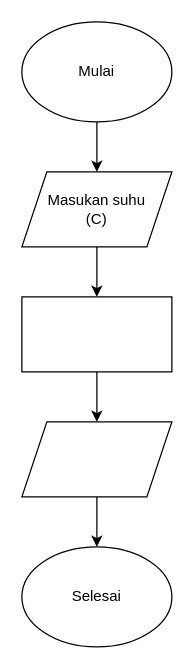
The diagram is 194 pixels wide and 669 high, and some of its shapes have lost their labels. Each missing label, with the centre of its shape:
"F = (C * 9/5)+35)" belongs at point 96,334.
"Hasil akhir (F)" belongs at point 96,459.
